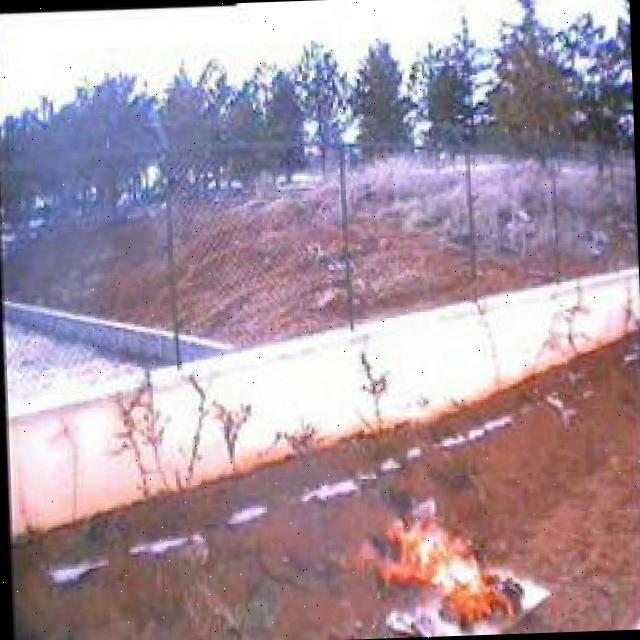fire: (347, 501, 530, 637)
